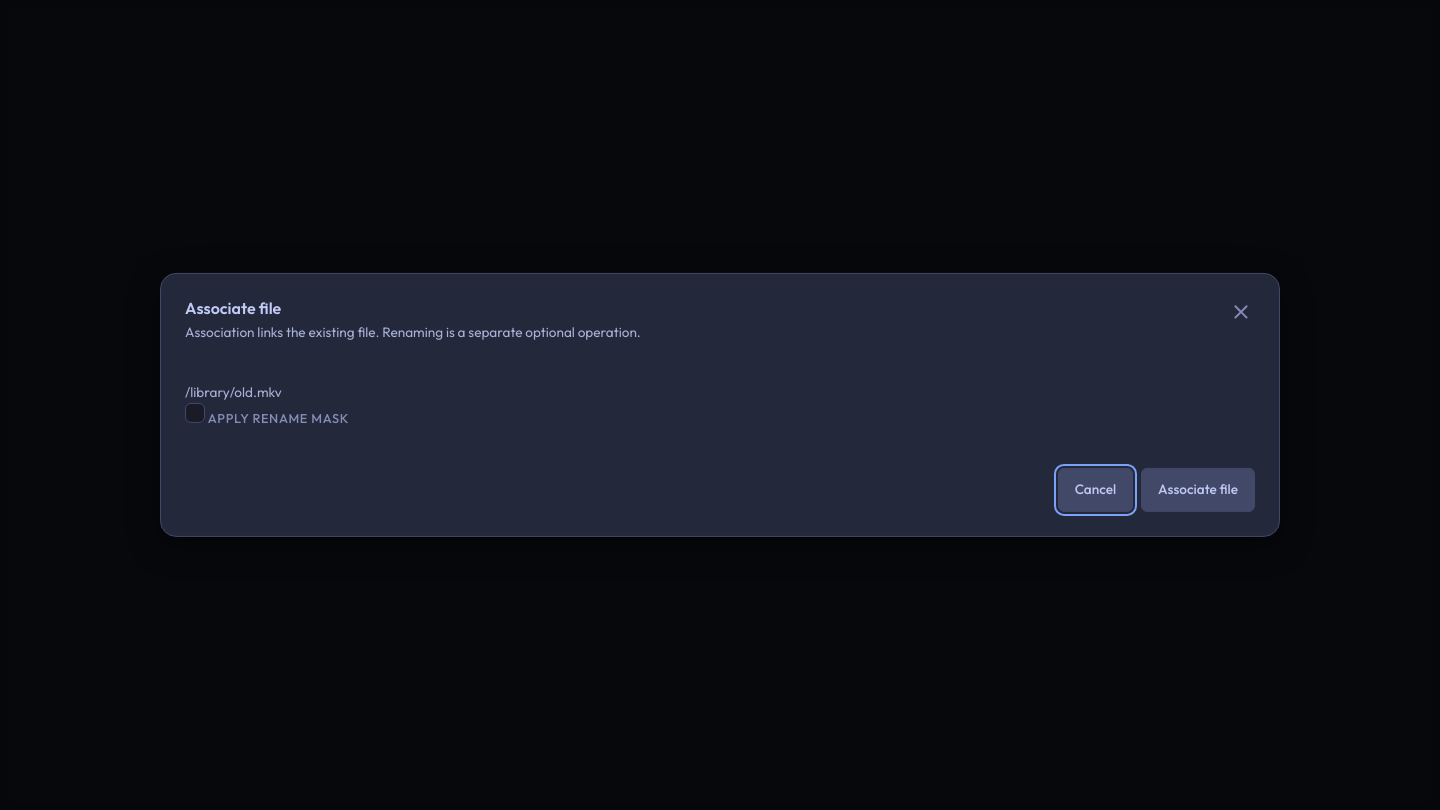
FileRenameDialog › shows the destination on enabling before association and starts disabled
Expected: the text "/library/Named/Episode.mkv" is not shown
Click the checkbox named "Apply rename mask": point(195, 413) [185,403,205,423]
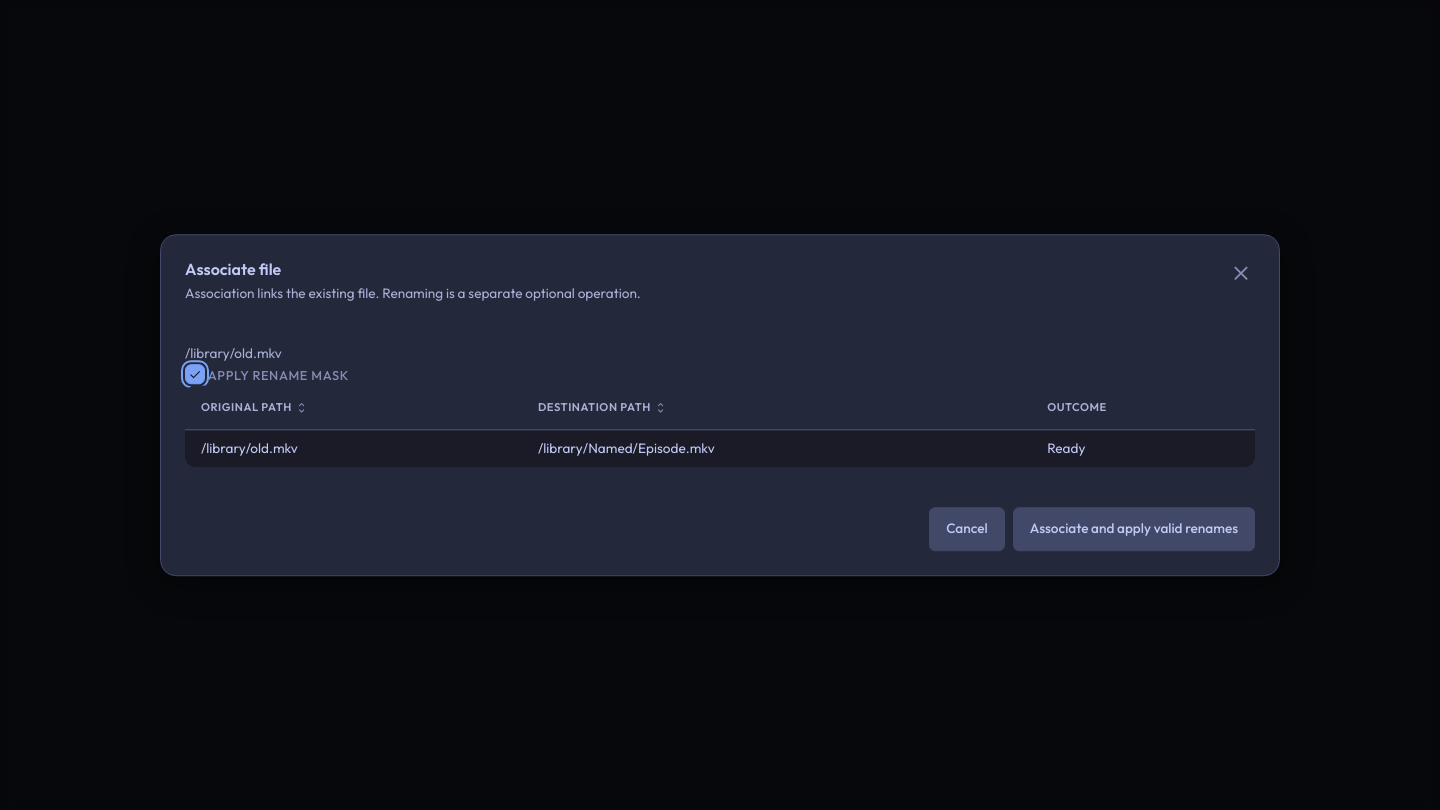
Result: the text "/library/Named/Episode.mkv" is shown at [522,430,1031,467]
Click the button "Associate and apply valid renames": point(1134, 529) [1013,507,1255,551]
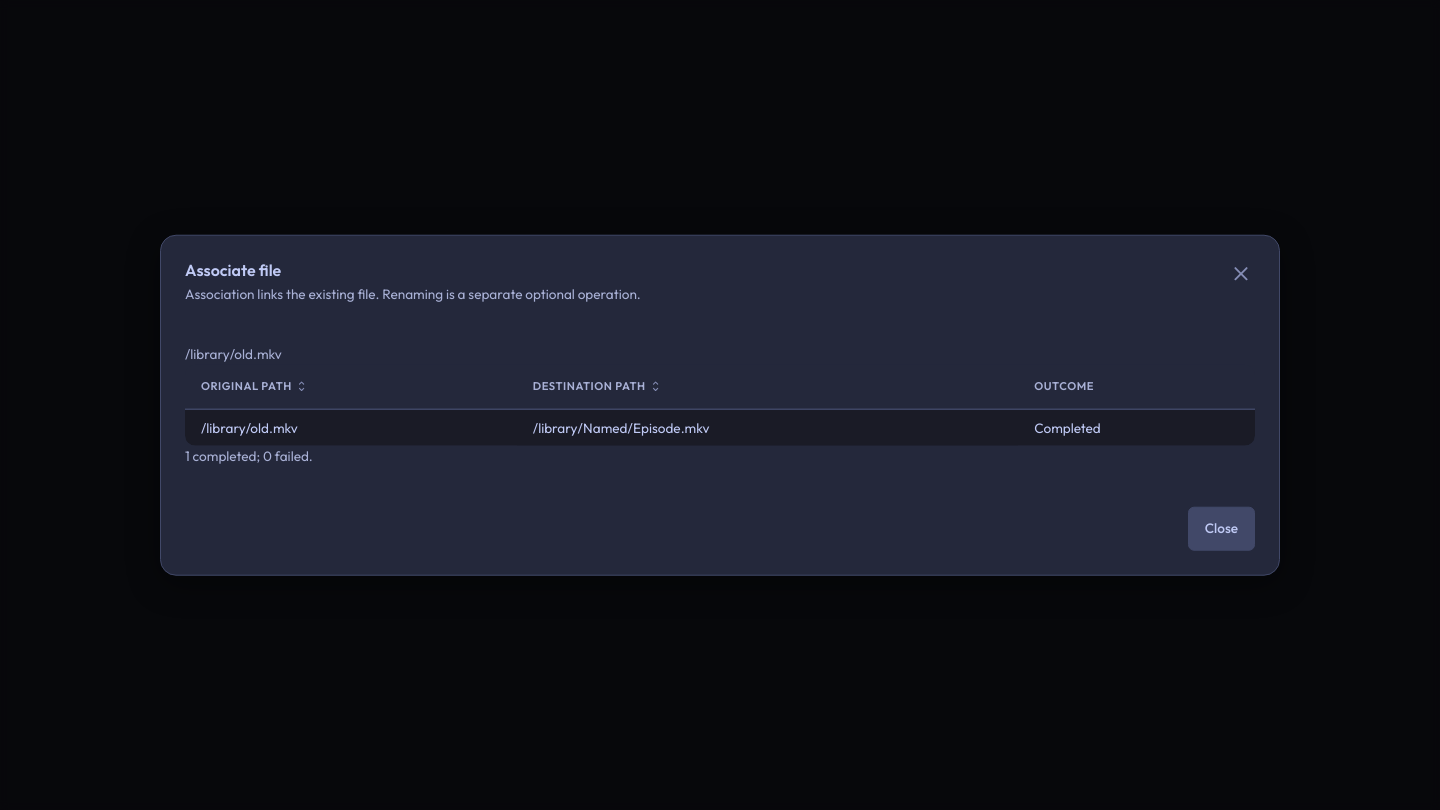
Result: the text "1 completed; 0 failed." is shown at [185,447,313,465]
